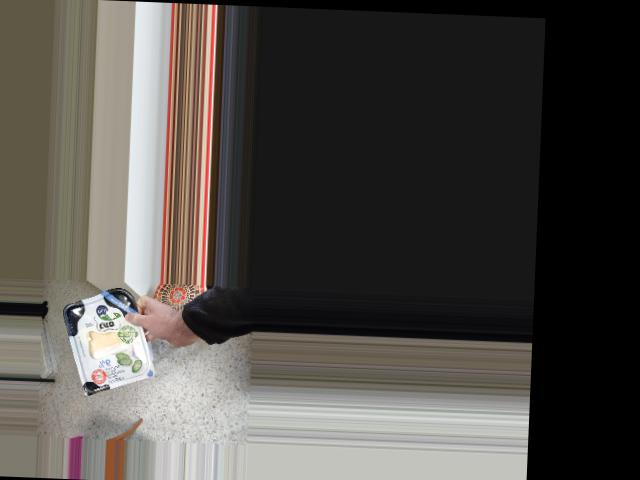cheese: (73, 295, 143, 385)
